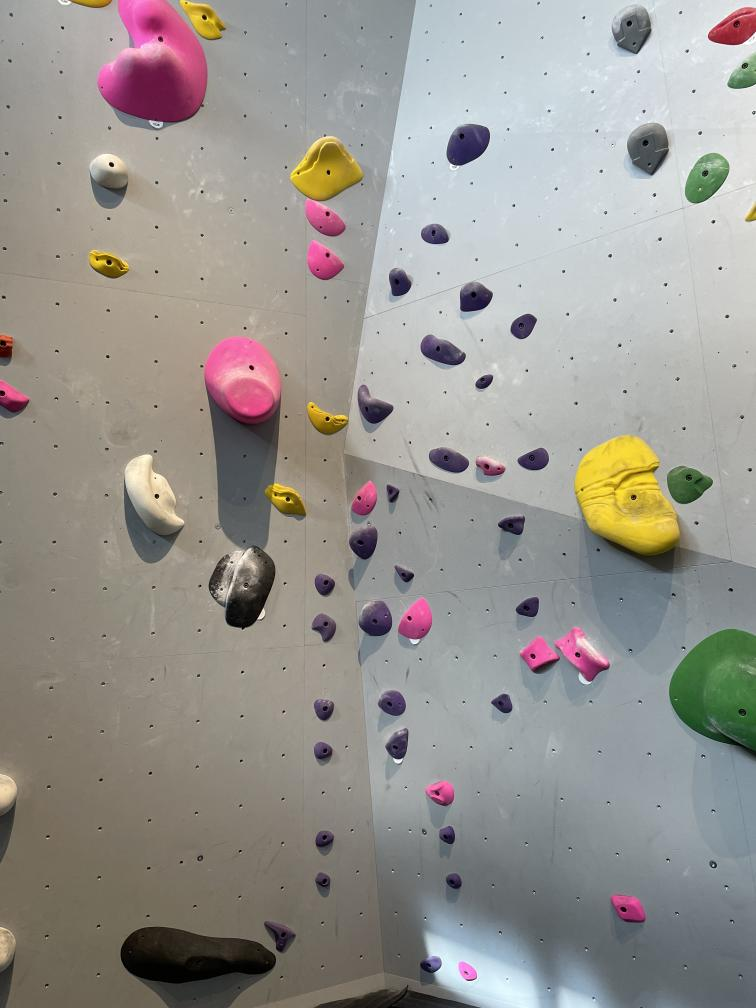Crimp: (727, 51, 756, 93), (268, 918, 294, 956), (508, 312, 536, 340), (518, 449, 551, 469), (514, 596, 541, 617), (490, 693, 514, 714), (392, 563, 414, 583)
Edges: (223, 541, 277, 631), (206, 549, 245, 611), (666, 463, 713, 507), (302, 199, 348, 236), (397, 598, 434, 641), (264, 483, 309, 518), (307, 240, 343, 282), (307, 401, 348, 433), (89, 249, 129, 275), (351, 480, 377, 516)
Foothold: (120, 927, 280, 987), (423, 779, 460, 810), (610, 895, 647, 924), (456, 962, 478, 983), (438, 826, 460, 843), (316, 831, 336, 848), (384, 484, 403, 501), (474, 374, 495, 389), (444, 874, 464, 888), (314, 873, 330, 886)
Hand-holds: (573, 432, 681, 562), (312, 613, 336, 642)
Jug: (292, 134, 363, 196), (609, 4, 653, 56), (626, 120, 668, 174), (445, 126, 492, 162), (419, 334, 466, 366), (357, 385, 390, 424), (425, 447, 470, 473), (358, 601, 393, 634), (348, 523, 376, 561), (456, 282, 493, 310), (385, 266, 416, 294), (376, 690, 408, 714), (385, 730, 410, 758), (499, 511, 525, 536), (418, 223, 447, 243), (477, 456, 504, 476), (421, 955, 443, 972)
Pinch: (560, 632, 606, 683), (519, 639, 558, 671)
Sloper: (110, 7, 209, 117), (206, 338, 283, 430), (126, 453, 180, 539), (680, 147, 732, 202), (89, 156, 130, 192), (313, 698, 336, 721), (314, 574, 335, 595), (314, 742, 333, 758)
